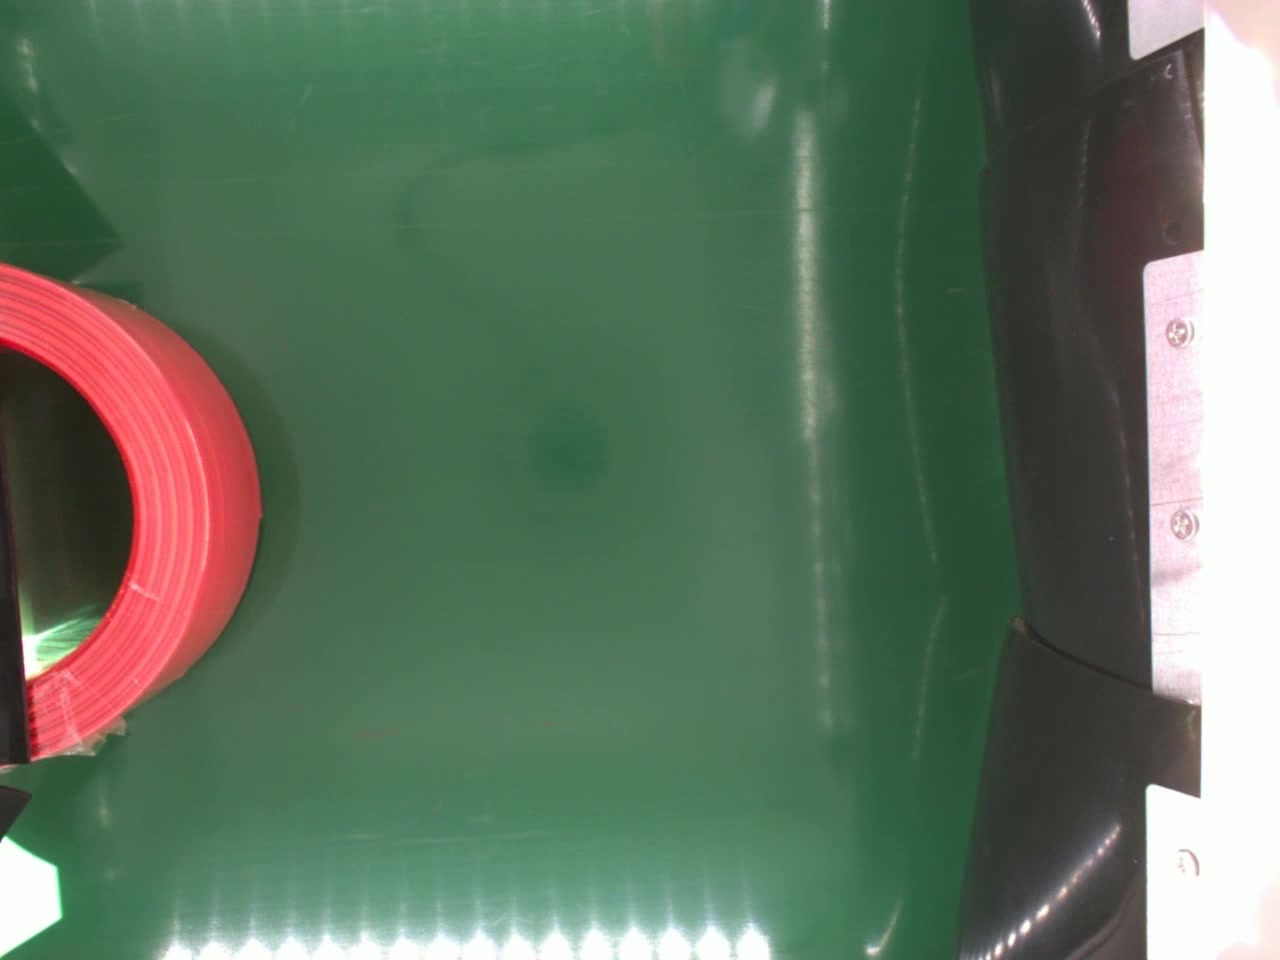red: (0, 260, 265, 762)
